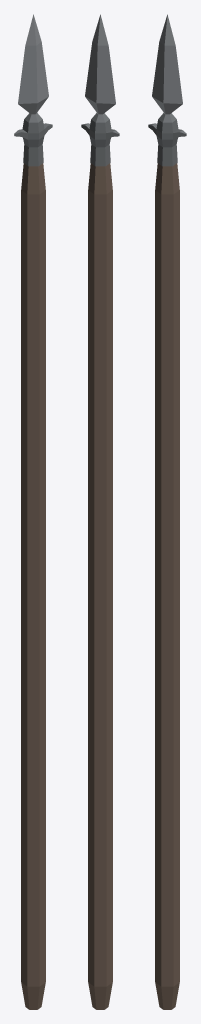
Rendered from Langets.002.fbx.
The picture shows the model from 3 angles, left to right: view 1: azimuth 30°, elevation 25°; view 2: azimuth 150°, elevation 25°; view 3: azimuth 330°, elevation 25°; orthographic projection.
Parts seen in each view (by area): view 1: Langets.002; view 2: Langets.002; view 3: Langets.002.
Part boxes in pixels (bbox=[...]): Langets.002: bbox=[14, 14, 52, 1009]; Langets.002: bbox=[81, 14, 119, 1009]; Langets.002: bbox=[148, 14, 186, 1009].
Bounding box in the file's own units: 8.84 × 223 × 5.02.
